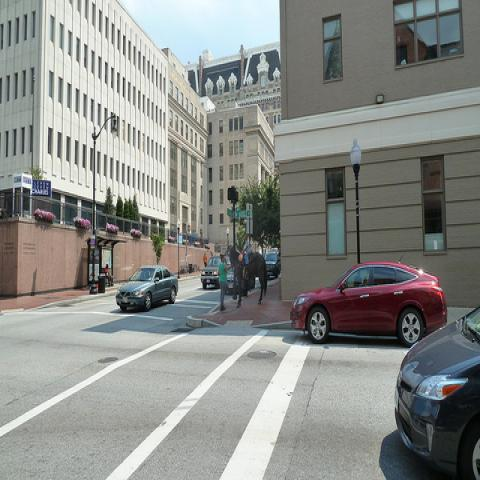car: (394, 306, 479, 479), (291, 257, 448, 348), (116, 265, 179, 312), (201, 258, 221, 290), (265, 252, 281, 278), (226, 268, 238, 294)
